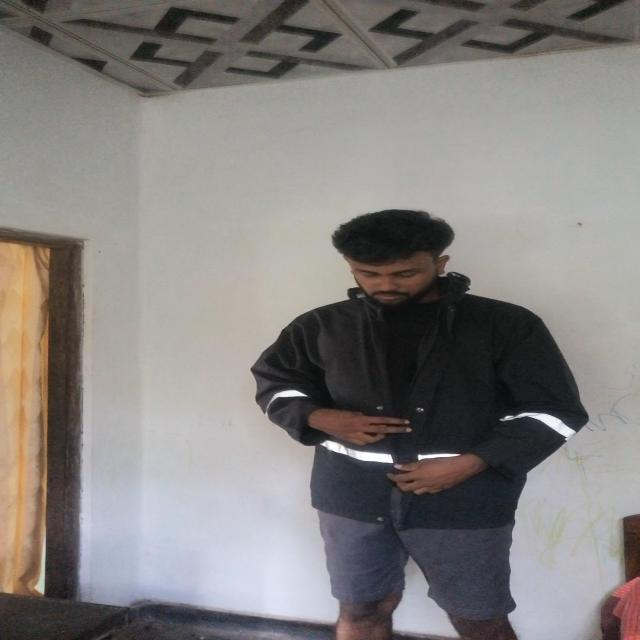Jacket_Wearer: (243, 276, 585, 526)
